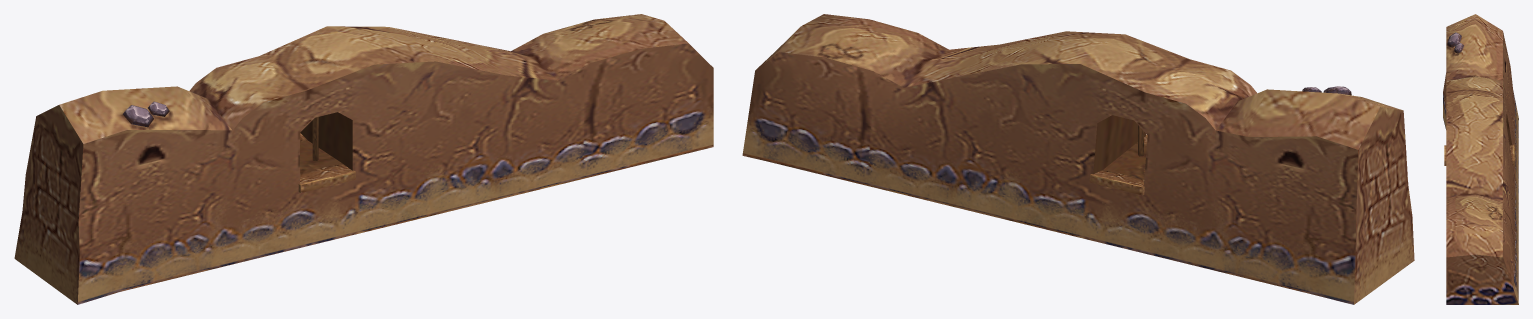
The model's file is qiang05.FBX.
3 views of the same model, side by side, from view 1: azimuth 30°, elevation 25°; view 2: azimuth 150°, elevation 25°; view 3: azimuth 270°, elevation 25° (orthographic). The views are drawn at different scales.
Parts seen in each view (by area): view 1: qiang05; view 2: qiang05; view 3: qiang05.
Boxes of the visible parts, left/top/right/bottom form: qiang05: left=14, top=14, right=713, bottom=304; qiang05: left=742, top=14, right=1414, bottom=304; qiang05: left=1443, top=14, right=1518, bottom=304.
Size of the model in its own units: 486 by 132 by 83.43.
